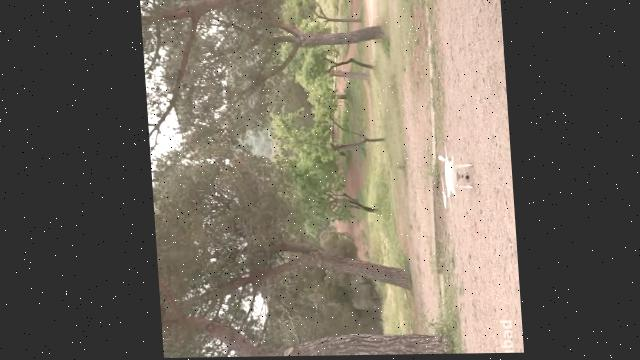drone: (434, 147, 473, 211)
